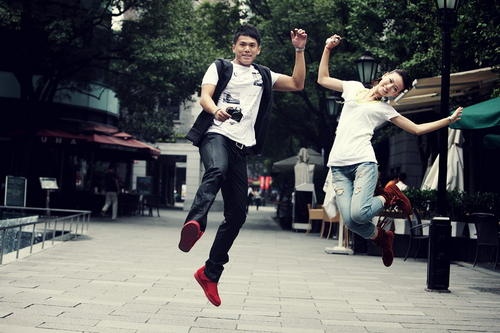no_mask: (375, 62, 413, 101), (230, 23, 263, 66)
